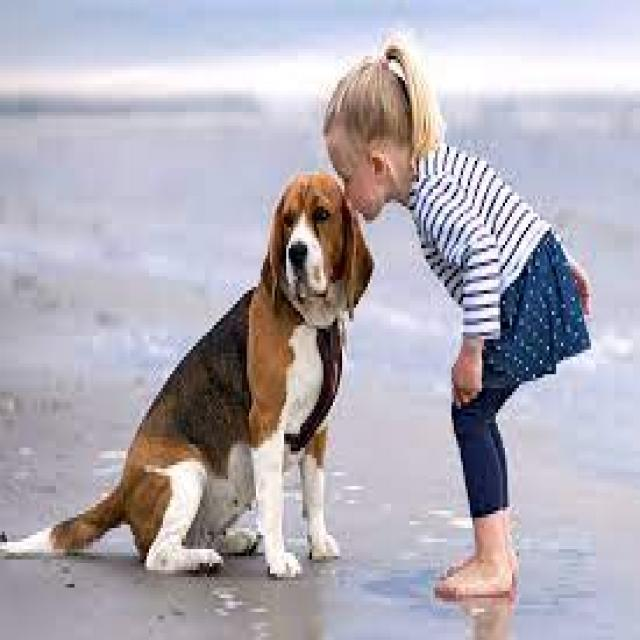Dog: (0, 166, 379, 586)
